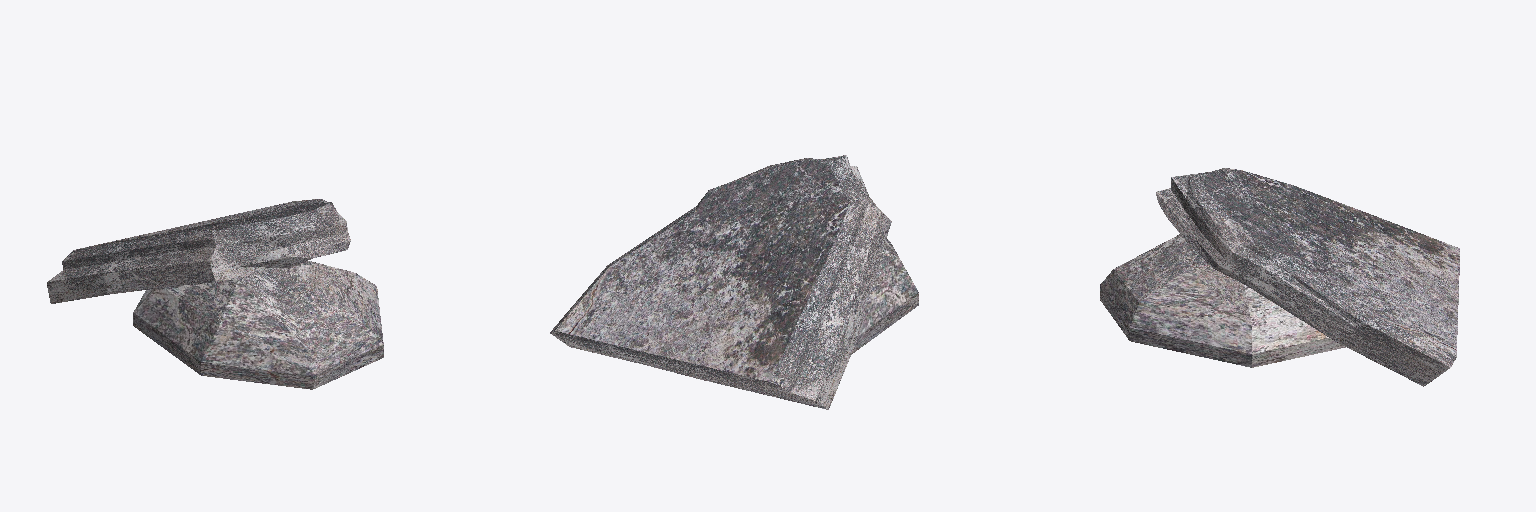
The picture shows the model from 3 angles: view 1: azimuth 30°, elevation 25°; view 2: azimuth 150°, elevation 25°; view 3: azimuth 270°, elevation 25°; orthographic projection.
Parts seen in each view (by area): view 1: rubble; view 2: rubble; view 3: rubble.
Part boxes in pixels (bbox=[...]): rubble: bbox=[47, 199, 383, 389]; rubble: bbox=[550, 155, 918, 409]; rubble: bbox=[1100, 168, 1459, 386].
Size of the model in its own units: 48.98 by 24.86 by 57.55.
Materials: 1 (1 with a texture image).